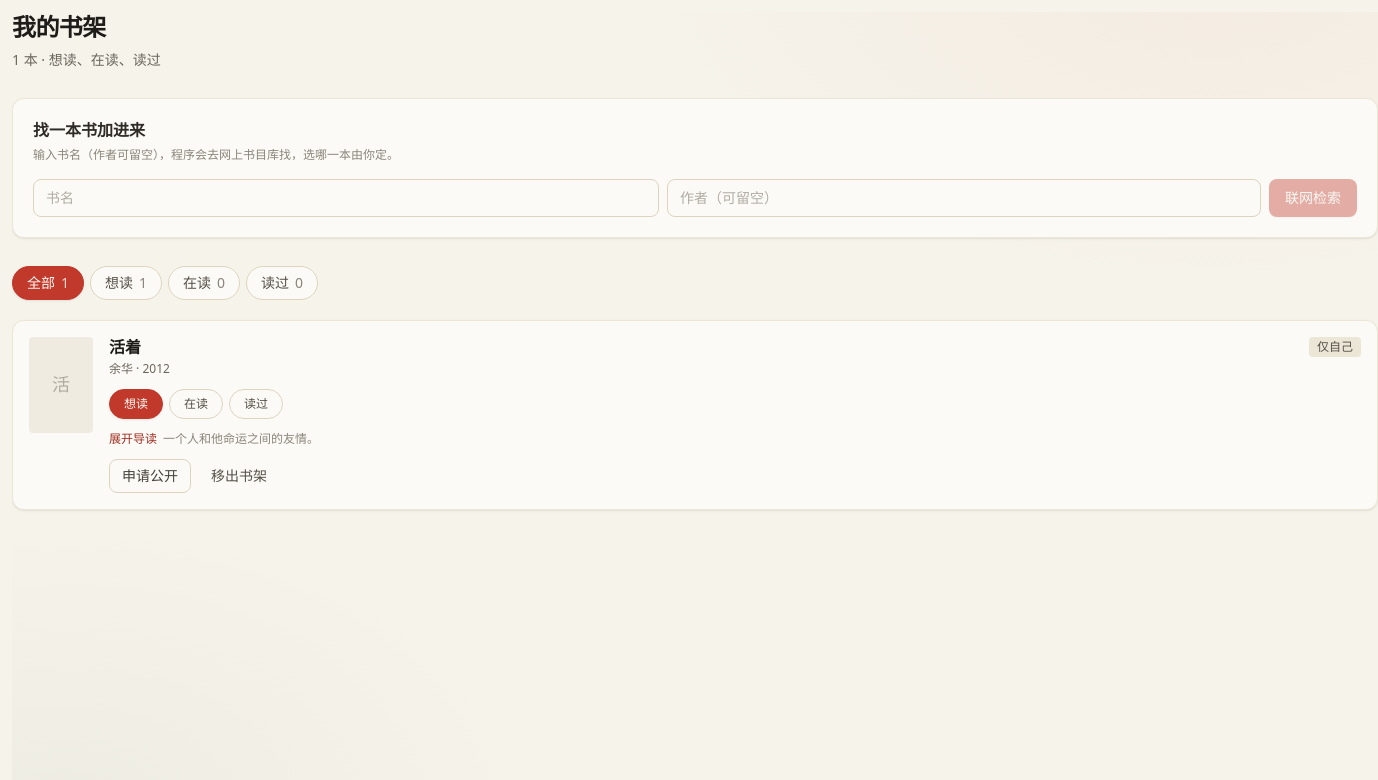
Test: 导读就是这本书的正文 › 有导读时书名可点，点开就是正文
What coordinates should you click on to do the following:
click the button "活着"
I would click on:
 (125, 348)
Its box is x1=109 y1=337 x2=141 y2=359.
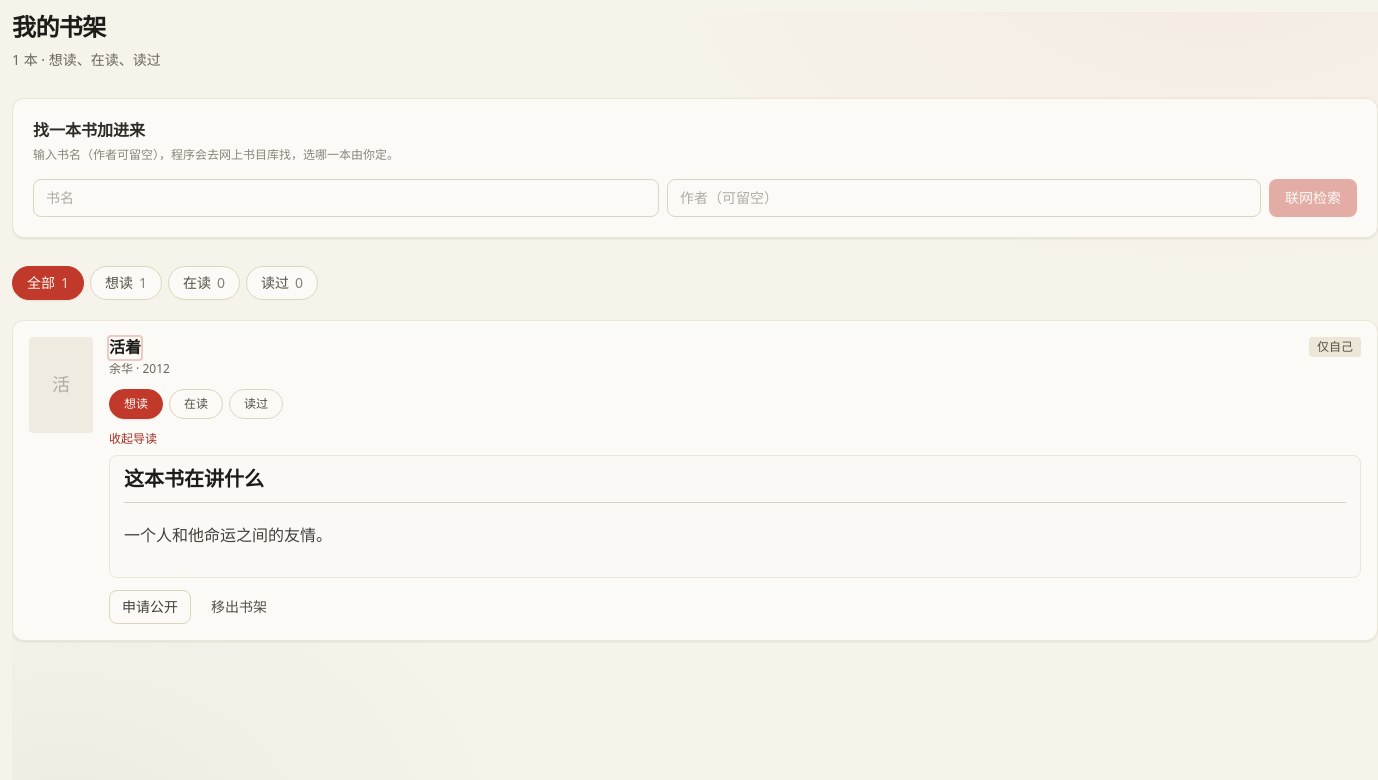
Result: the heading "这本书在讲什么" is shown at x1=124 y1=466 x2=1346 y2=502
